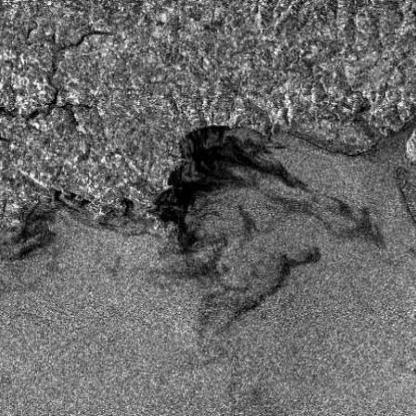oil: (138, 110, 337, 333)
